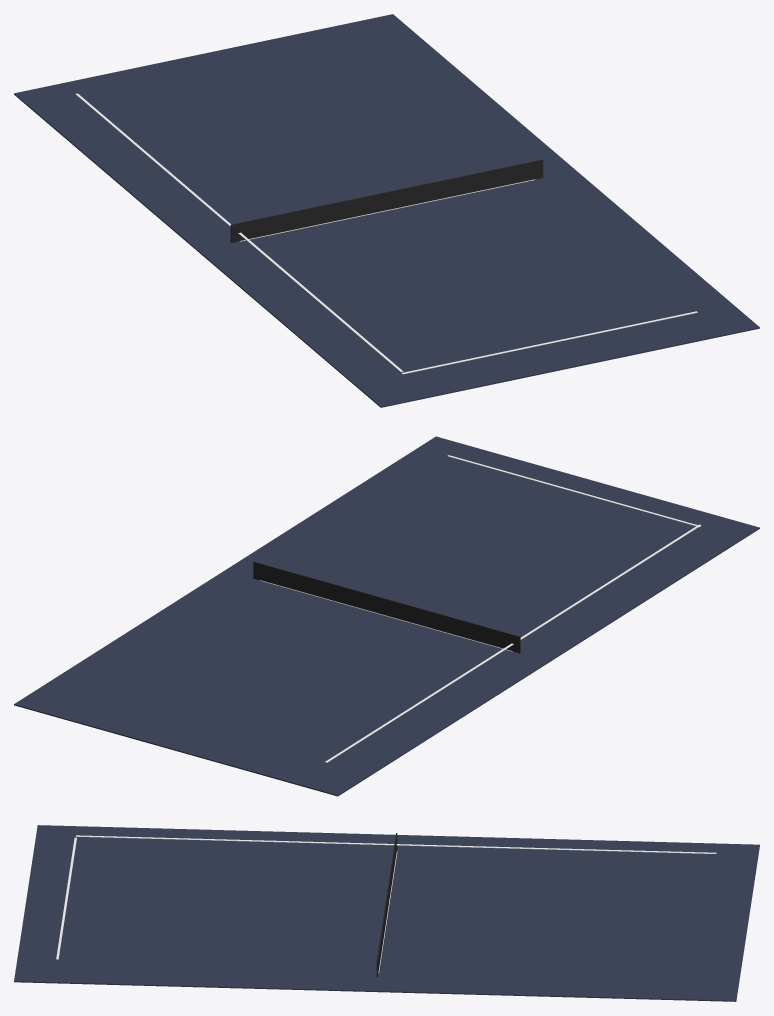
File: nd_pitch_370621785.glb
3 views of the same model, one above another, from view 1: azimuth 30°, elevation 25°; view 2: azimuth 150°, elevation 25°; view 3: azimuth 270°, elevation 25° (orthographic). The views are drawn at different scales.
Parts seen in each view (by area): view 1: nd_pitch_370621785_lod0; view 2: nd_pitch_370621785_lod0; view 3: nd_pitch_370621785_lod0.
Part boxes in pixels (x1=…): nd_pitch_370621785_lod0: x1=14, y1=14, x2=759, y2=407; nd_pitch_370621785_lod0: x1=14, y1=436, x2=759, y2=796; nd_pitch_370621785_lod0: x1=14, y1=825, x2=759, y2=1001.
Size of what is drawn, in the model's own units: 20.33 by 1.18 by 36.49.
